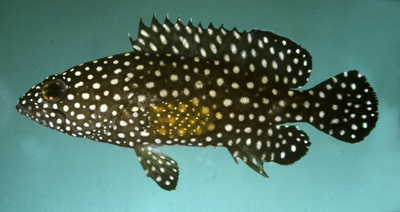fish: (15, 11, 380, 191)
